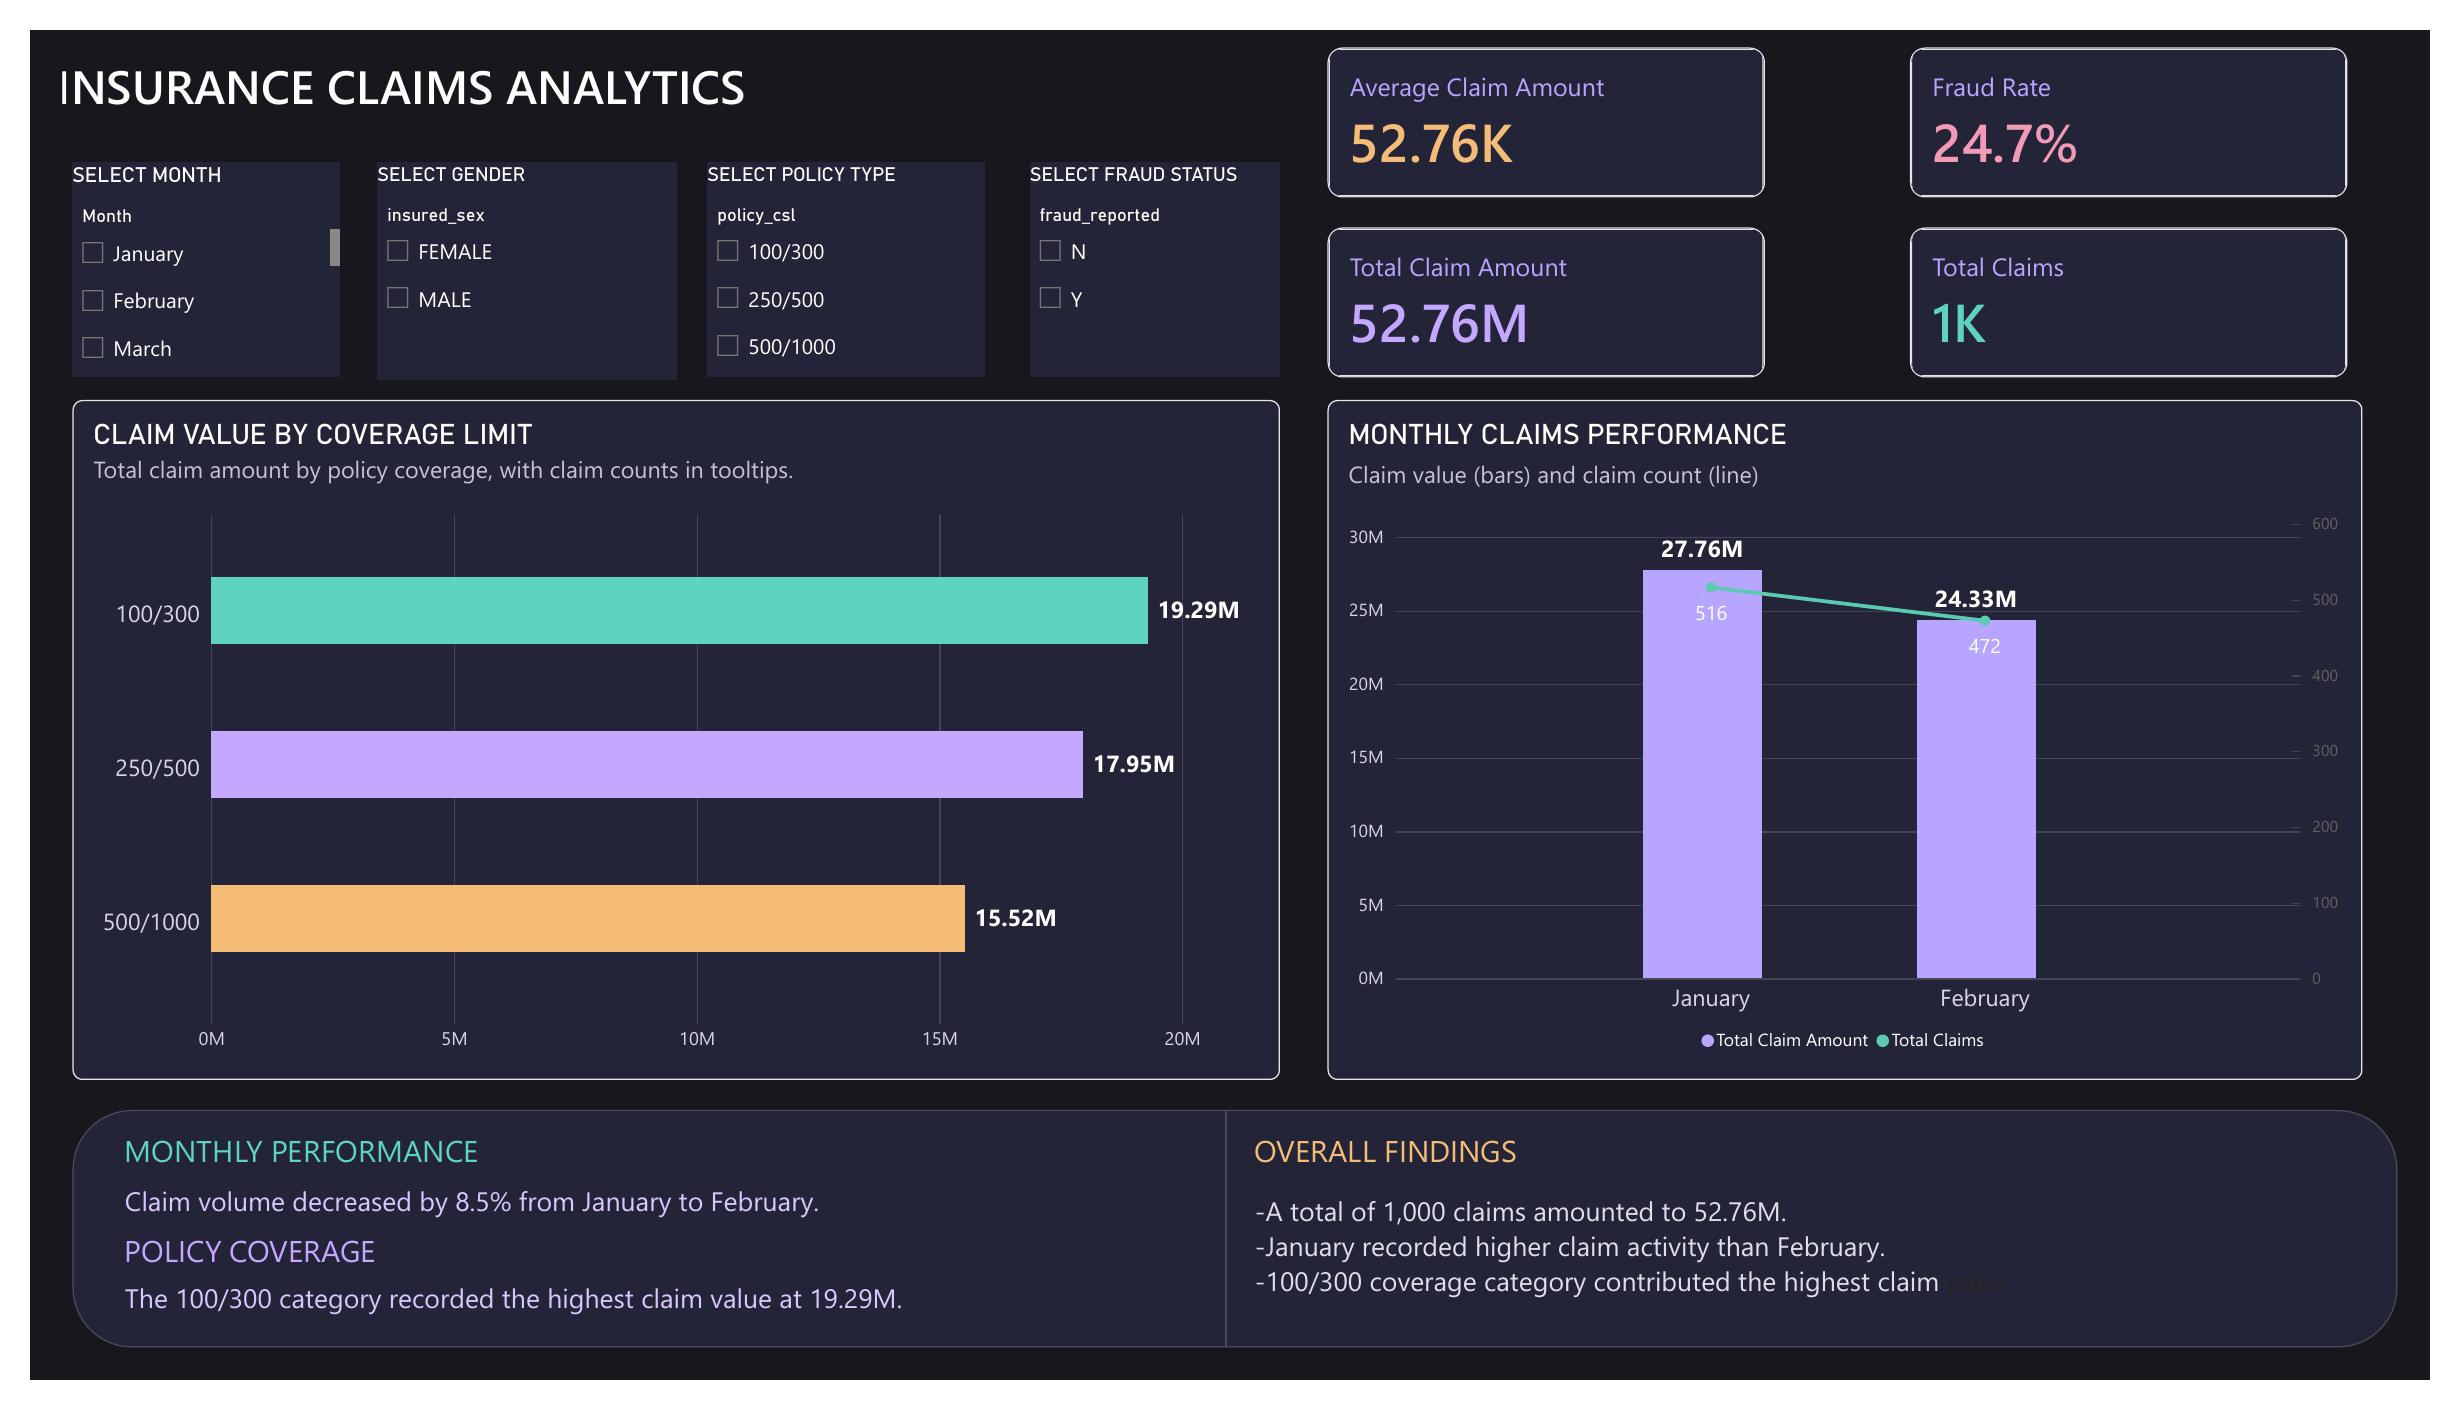

What the dashboard file says about the page in this screenshot:
{"tool":"powerbi","page":{"name":"INSURANCE CLAIM ANALYSIS","canvas":[1920,1080],"ordinal":0},"visuals":[{"type":"shape","box":[34,864,1860,190],"z":0},{"type":"cardVisual","fields":{"Data":["insurance_claims.Total Claims"]},"box":[1504,158,350,120],"z":1000},{"type":"cardVisual","fields":{"Data":["insurance_claims.Total Claim Amount"]},"box":[1038,158,350,120],"z":2000},{"type":"cardVisual","fields":{"Data":["insurance_claims.Average Claim Amount"]},"box":[1038,14,350,120],"z":3000},{"type":"cardVisual","fields":{"Data":["insurance_claims.Fraud Rate"]},"box":[1504,14,350,120],"z":4000},{"type":"textbox","box":[0,20,596,54],"z":5000},{"type":"clusteredBarChart","title":"CLAIM VALUE BY COVERAGE LIMIT","fields":{"Category":["insurance_claims.policy_csl"],"Y":["insurance_claims.Total Claim Amount"]},"box":[34,296,966,544],"z":6000},{"type":"lineStackedColumnComboChart","title":"MONTHLY CLAIMS PERFORMANCE","fields":{"Category":["insurance_claims.incident_date.Variation.Date Hierarchy.Month"],"Y":["insurance_claims.Total Claim Amount"],"Y2":["insurance_claims.Total Claims"]},"box":[1038,296,828,544],"z":7000},{"type":"textbox","box":[76,880,444,42],"z":8000},{"type":"textbox","box":[76,960,278,40],"z":9000},{"type":"textbox","box":[76,922,666,58],"z":10000},{"type":"textbox","box":[76,1000,622,60],"z":11000},{"type":"shape","box":[696,864,522,190],"z":12000},{"type":"textbox","box":[980,880,238,42],"z":13000},{"type":"textbox","box":[1530,158,364,120],"z":14000},{"type":"textbox","box":[980,930,880,98],"z":15000},{"type":"slicer","title":"SELECT MONTH","fields":{"Values":["insurance_claims.incident_date.Variation.Date Hierarchy.Month"]},"box":[34,106,214,172],"z":16000},{"type":"slicer","title":"SELECT GENDER","fields":{"Values":["insurance_claims.insured_sex"]},"box":[278,106,240,174],"z":16001},{"type":"slicer","title":"SELECT POLICY TYPE","fields":{"Values":["insurance_claims.policy_csl"]},"box":[542,106,222,172],"z":16002},{"type":"slicer","title":"SELECT FRAUD STATUS","fields":{"Values":["insurance_claims.fraud_reported"]},"box":[800,106,200,172],"z":16003}]}

Visuals, with their boxes in screenshot pixels (x1, y1, x2, y2), scaled from the page's 1920x1080 canvas onto the 2460x1410 screenshot:
shape: bbox=(44, 1128, 2427, 1376)
cardVisual - insurance_claims.Total Claims: bbox=(1927, 206, 2375, 363)
cardVisual - insurance_claims.Total Claim Amount: bbox=(1330, 206, 1778, 363)
cardVisual - insurance_claims.Average Claim Amount: bbox=(1330, 18, 1778, 175)
cardVisual - insurance_claims.Fraud Rate: bbox=(1927, 18, 2375, 175)
textbox: bbox=(0, 26, 764, 97)
"CLAIM VALUE BY COVERAGE LIMIT" clusteredBarChart: bbox=(44, 386, 1281, 1097)
"MONTHLY CLAIMS PERFORMANCE" lineStackedColumnComboChart: bbox=(1330, 386, 2391, 1097)
textbox: bbox=(97, 1149, 666, 1204)
textbox: bbox=(97, 1253, 454, 1306)
textbox: bbox=(97, 1204, 951, 1279)
textbox: bbox=(97, 1306, 894, 1384)
shape: bbox=(892, 1128, 1561, 1376)
textbox: bbox=(1256, 1149, 1561, 1204)
textbox: bbox=(1960, 206, 2427, 363)
textbox: bbox=(1256, 1214, 2383, 1342)
"SELECT MONTH" slicer: bbox=(44, 138, 318, 363)
"SELECT GENDER" slicer: bbox=(356, 138, 664, 366)
"SELECT POLICY TYPE" slicer: bbox=(694, 138, 979, 363)
"SELECT FRAUD STATUS" slicer: bbox=(1025, 138, 1281, 363)
